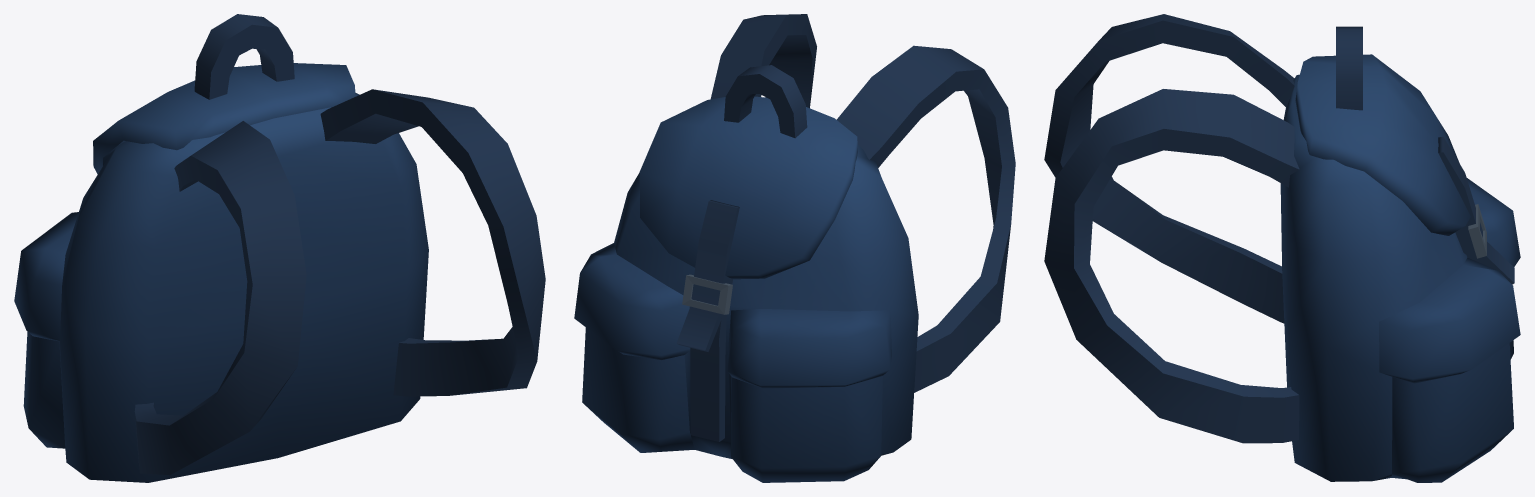
The model's file is Bag_6.fbx.
The picture shows the model from 3 angles, left to right: view 1: azimuth 30°, elevation 25°; view 2: azimuth 150°, elevation 25°; view 3: azimuth 270°, elevation 25°; orthographic projection. The views are drawn at different scales.
Visible parts, largest first — view 1: Bag_6; view 2: Bag_6; view 3: Bag_6.
Part boxes in pixels (<box>): Bag_6: <box>14,14,545,482</box>; Bag_6: <box>574,14,1015,482</box>; Bag_6: <box>1044,14,1520,482</box>.
Bounding box in the file's own units: 47.18 × 52.49 × 57.67.
